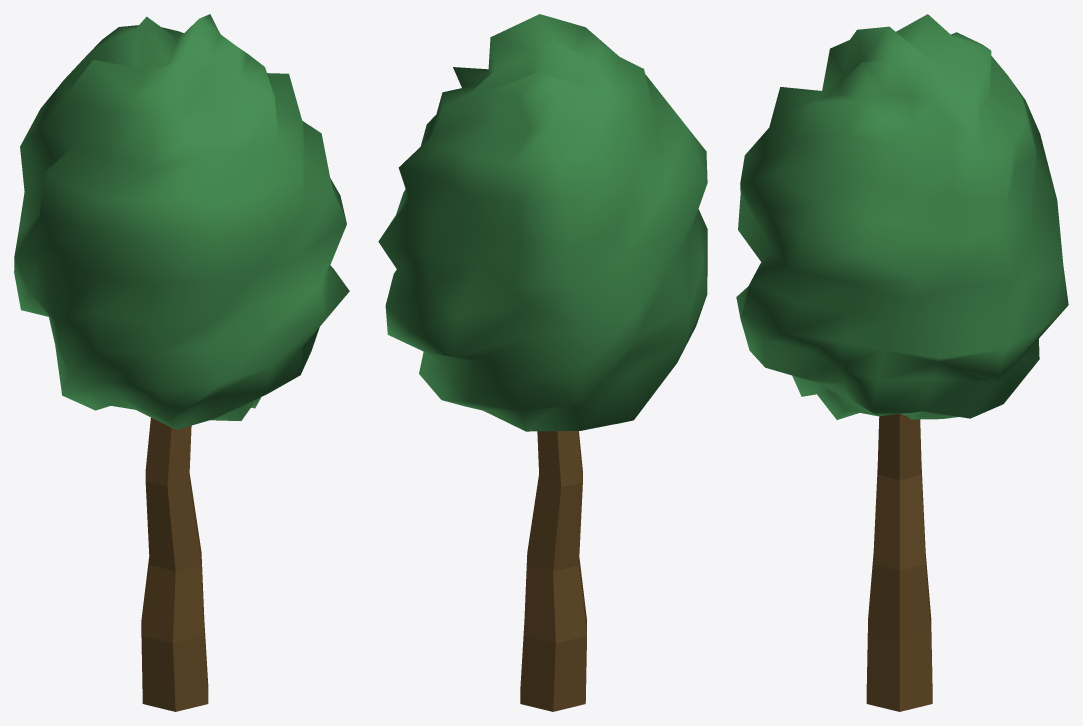
Rendered from tree(1).fbx.
3 views of the same model, side by side, from view 1: azimuth 30°, elevation 25°; view 2: azimuth 150°, elevation 25°; view 3: azimuth 270°, elevation 25° (orthographic).
Visible parts, largest first — view 1: pCylinder3; view 2: pCylinder3; view 3: pCylinder3.
Part boxes in pixels (bbox=[...]): pCylinder3: bbox=[14, 14, 349, 711]; pCylinder3: bbox=[378, 14, 707, 711]; pCylinder3: bbox=[736, 14, 1068, 711].
Size of the model in its own units: 8.3 by 19.69 by 8.75.
